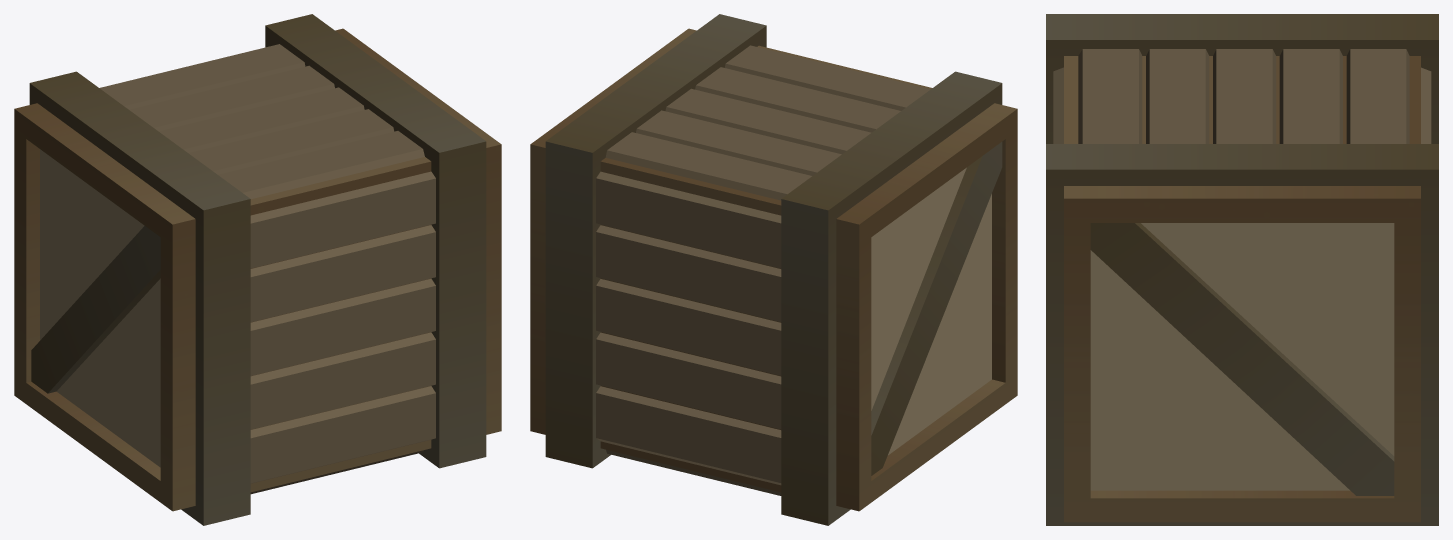
The model's file is Crate_2.fbx.
3 renders of one model, left to right at view 1: azimuth 30°, elevation 25°; view 2: azimuth 150°, elevation 25°; view 3: azimuth 270°, elevation 25°, orthographic. The views are drawn at different scales.
Visible parts, largest first — view 1: polySurface9644; view 2: polySurface9644; view 3: polySurface9644.
Boxes of the visible parts, box(x1,y1,x2,y2) form: polySurface9644: box(14, 14, 501, 525); polySurface9644: box(530, 14, 1017, 525); polySurface9644: box(1046, 14, 1438, 525).
Size of the model in its own units: 144 by 132 by 132.
